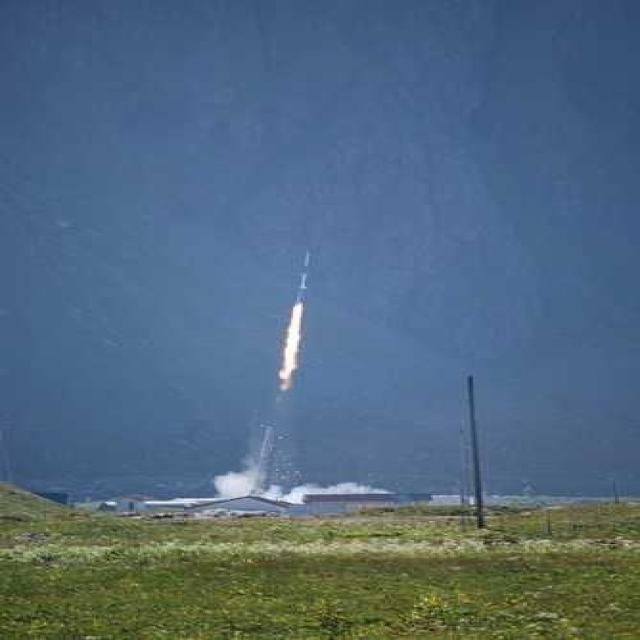missile: (292, 242, 313, 309)
